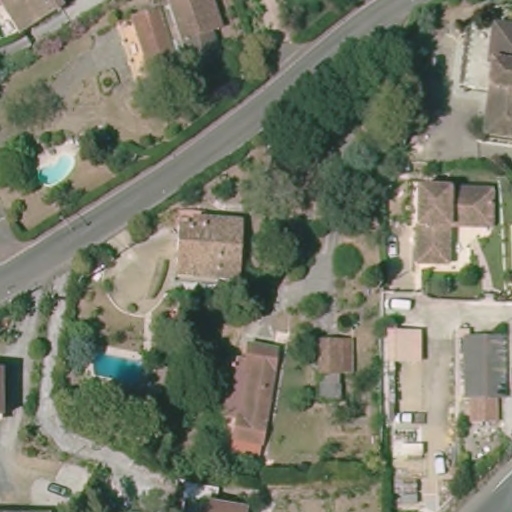pool: (84, 346, 154, 390), (31, 151, 77, 190)
